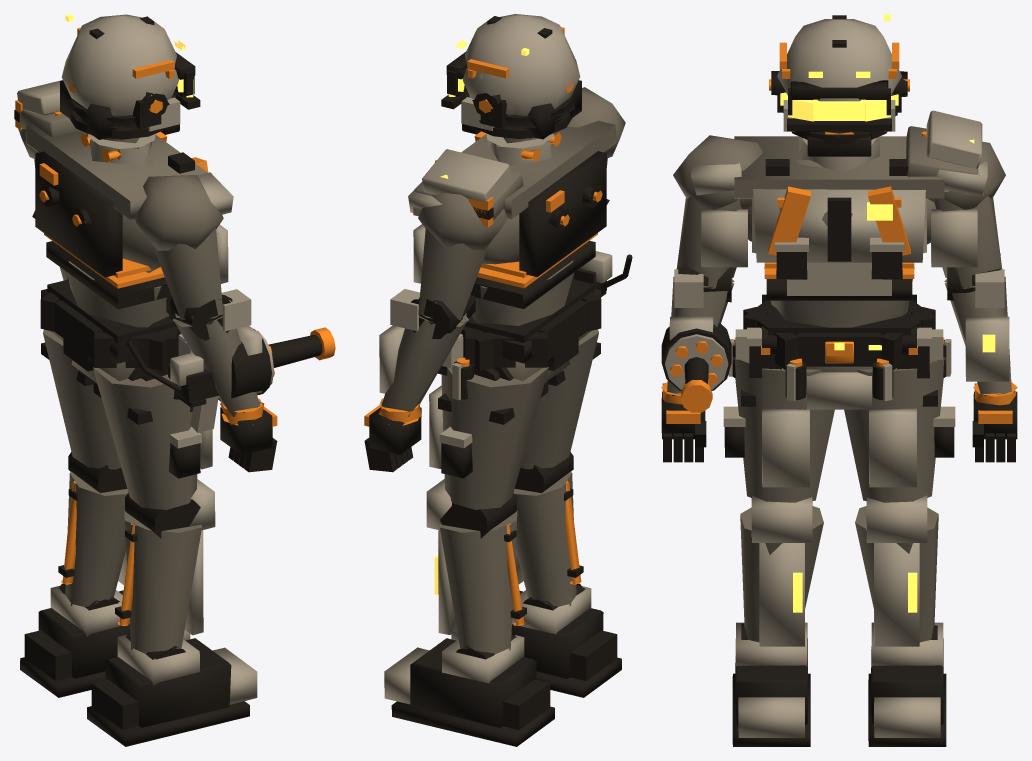
Rendered from humanoide_granadero.glb.
3 renders of one model, left to right at view 1: azimuth 30°, elevation 25°; view 2: azimuth 150°, elevation 25°; view 3: azimuth 270°, elevation 25°, orthographic.
Parts seen in each view (by area): view 1: mov_pierna_der, mov_torso, mov_pierna_izq, mov_brazo_der, granadero_visera, granadero_lanzagranadas, mov_cabeza, granadero_cinturon, granadero_hombrera, pelvis; view 2: mov_pierna_izq, mov_torso, mov_pierna_der, mov_brazo_izq, granadero_visera, granadero_cinturon, granadero_hombrera, mov_cabeza, pelvis, mov_brazo_der, granadero_lanzagranadas; view 3: mov_torso, mov_pierna_izq, mov_pierna_der, mov_brazo_izq, mov_brazo_der, granadero_visera, granadero_cinturon, pelvis, granadero_lanzagranadas, granadero_hombrera, mov_cabeza.
Boxes of the visible parts, box(x1,y1,x2,y2) form: mov_pierna_der: box(87, 367, 257, 746); mov_torso: box(26, 123, 208, 344); mov_pierna_izq: box(20, 329, 190, 697); mov_brazo_der: box(134, 172, 277, 472); granadero_visera: box(61, 14, 200, 139); granadero_lanzagranadas: box(126, 327, 335, 432); mov_cabeza: box(60, 14, 194, 148); granadero_cinturon: box(40, 275, 180, 399); granadero_hombrera: box(14, 80, 80, 152); pelvis: box(41, 289, 192, 382); mov_pierna_izq: box(384, 367, 554, 746); mov_torso: box(435, 120, 615, 342); mov_pierna_der: box(451, 329, 621, 697); mov_brazo_izq: box(364, 182, 507, 472); granadero_visera: box(441, 14, 580, 139); granadero_cinturon: box(452, 273, 601, 400); granadero_hombrera: box(413, 149, 528, 227); mov_cabeza: box(447, 16, 581, 146); pelvis: box(437, 288, 600, 382); mov_brazo_der: box(567, 87, 625, 204); granadero_lanzagranadas: box(574, 251, 632, 297); mov_torso: box(734, 136, 944, 335); mov_pierna_izq: box(844, 357, 955, 746); mov_pierna_der: box(723, 357, 834, 746); mov_brazo_izq: box(928, 141, 1017, 462); mov_brazo_der: box(661, 135, 762, 462); granadero_visera: box(777, 19, 901, 156); granadero_cinturon: box(728, 300, 951, 401); pelvis: box(735, 294, 943, 409); granadero_lanzagranadas: box(661, 323, 731, 412); granadero_hombrera: box(906, 110, 983, 195); mov_cabeza: box(769, 14, 909, 139).
Bounding box in the file's own units: 0.579 × 1.9 × 0.8899.
